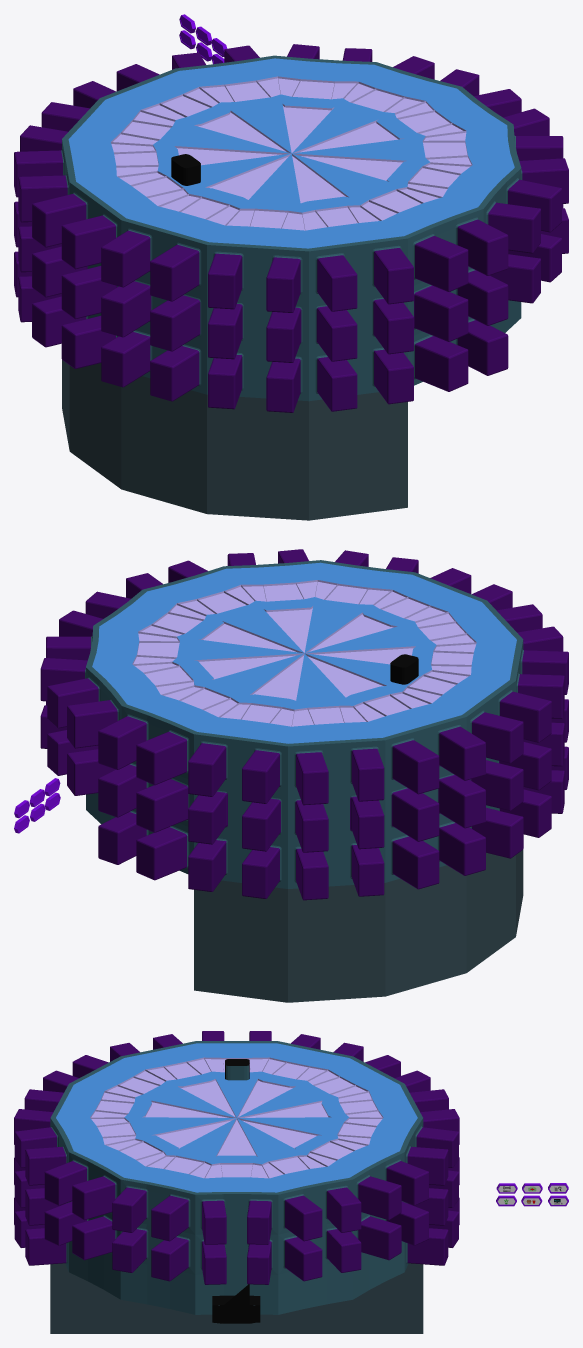
Rendered from Boss.fbx.
3 views of the same model, one above another, from view 1: azimuth 30°, elevation 25°; view 2: azimuth 150°, elevation 25°; view 3: azimuth 270°, elevation 25° (orthographic). The views are drawn at different scales.
Visible parts, largest first — view 1: Franja; view 2: Franja; view 3: Franja.
Part boxes in pixels (box(x1,y1,x2,y2)): Franja: box(14, 44, 568, 520); Franja: box(40, 549, 568, 1002); Franja: box(14, 1031, 459, 1333).
Size of the model in its own units: 25795 by 14838 by 32416.
